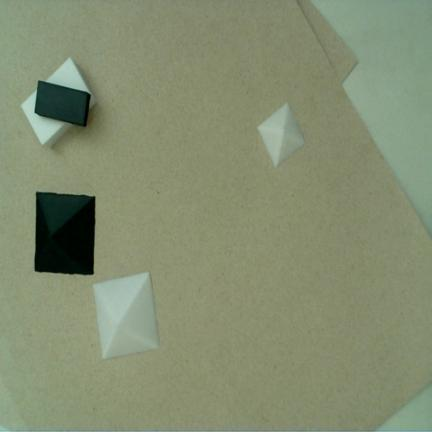Paralelepipedo: (21, 56, 97, 148), (35, 79, 91, 127)
Piramide: (92, 271, 159, 360), (35, 192, 95, 275), (258, 103, 306, 166)
